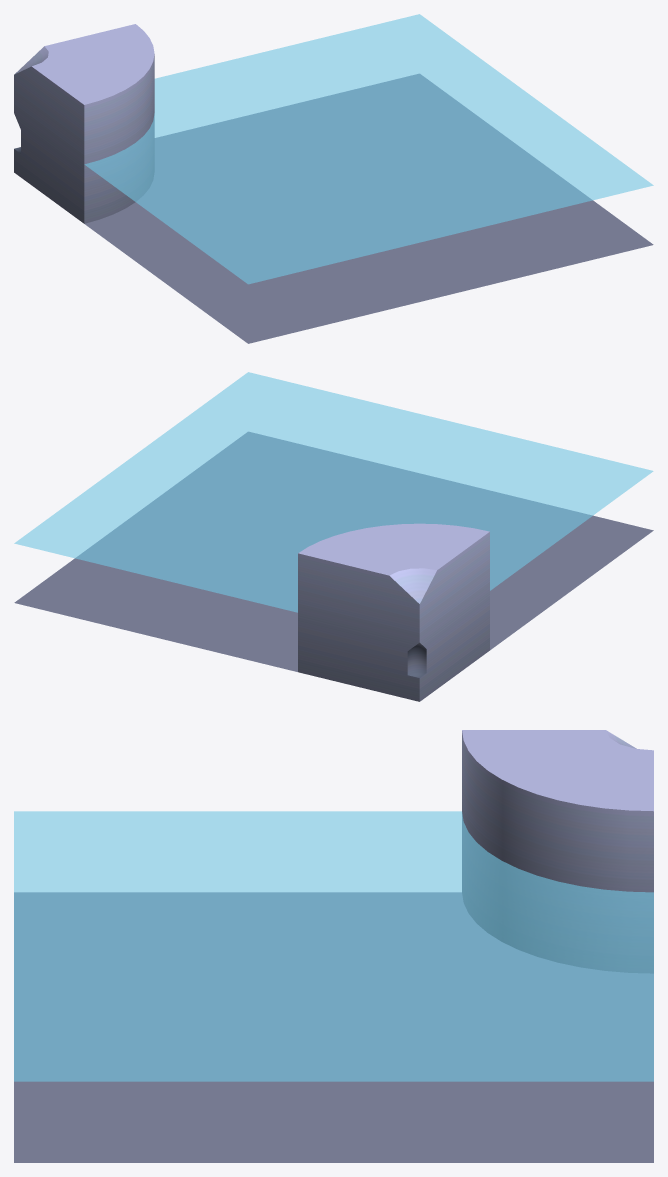
Rendered from fountain-corner-inner.glb.
3 renders of one model, top to bottom at view 1: azimuth 30°, elevation 25°; view 2: azimuth 150°, elevation 25°; view 3: azimuth 270°, elevation 25°, orthographic. The views are drawn at different scales.
Parts seen in each view (by area): view 1: fountain-corner-inner, (_ignore); view 2: fountain-corner-inner, (_ignore); view 3: fountain-corner-inner, (_ignore).
Boxes of the visible parts, bbox=[...] form: fountain-corner-inner: bbox=[14, 24, 653, 343]; (_ignore): bbox=[84, 14, 653, 284]; fountain-corner-inner: bbox=[14, 432, 653, 701]; (_ignore): bbox=[14, 372, 653, 612]; fountain-corner-inner: bbox=[14, 730, 653, 1162]; (_ignore): bbox=[14, 811, 653, 1081].
Bounding box in the file's own units: 1 × 0.28 × 1.
2 materials, 1 textured.
